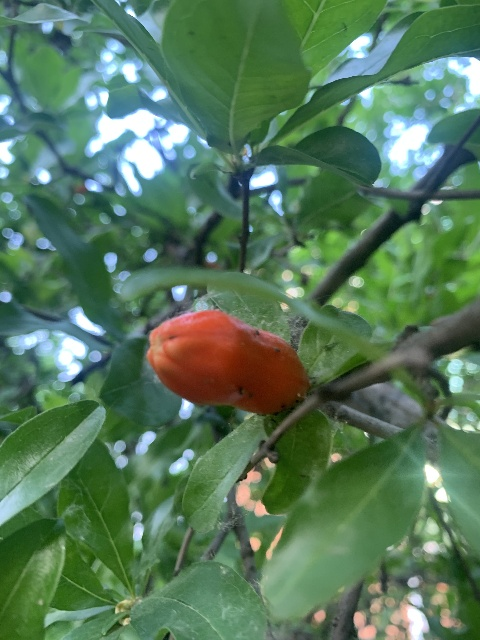bud: (145, 309, 310, 414)
